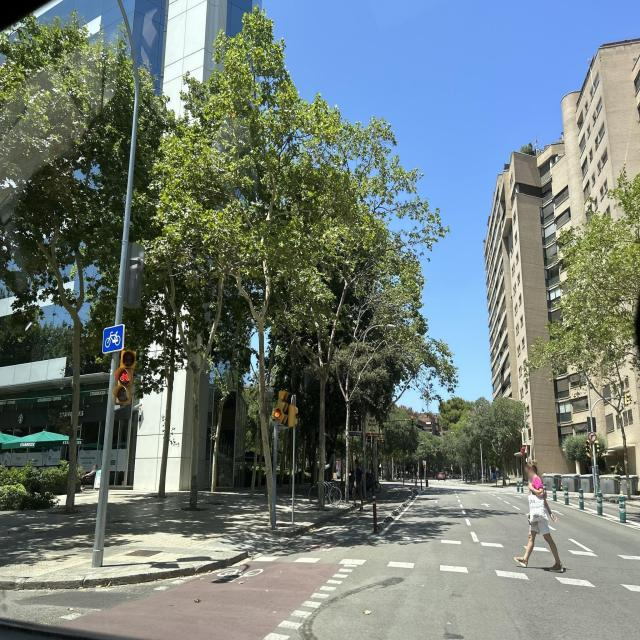bike: (309, 476, 342, 505)
car: (437, 471, 446, 480)
